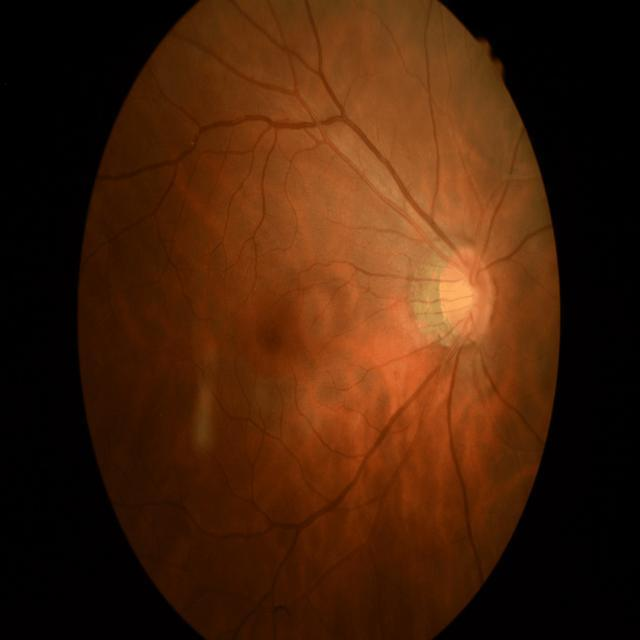cup: (453, 274, 477, 320)
disk: (440, 247, 493, 343)
